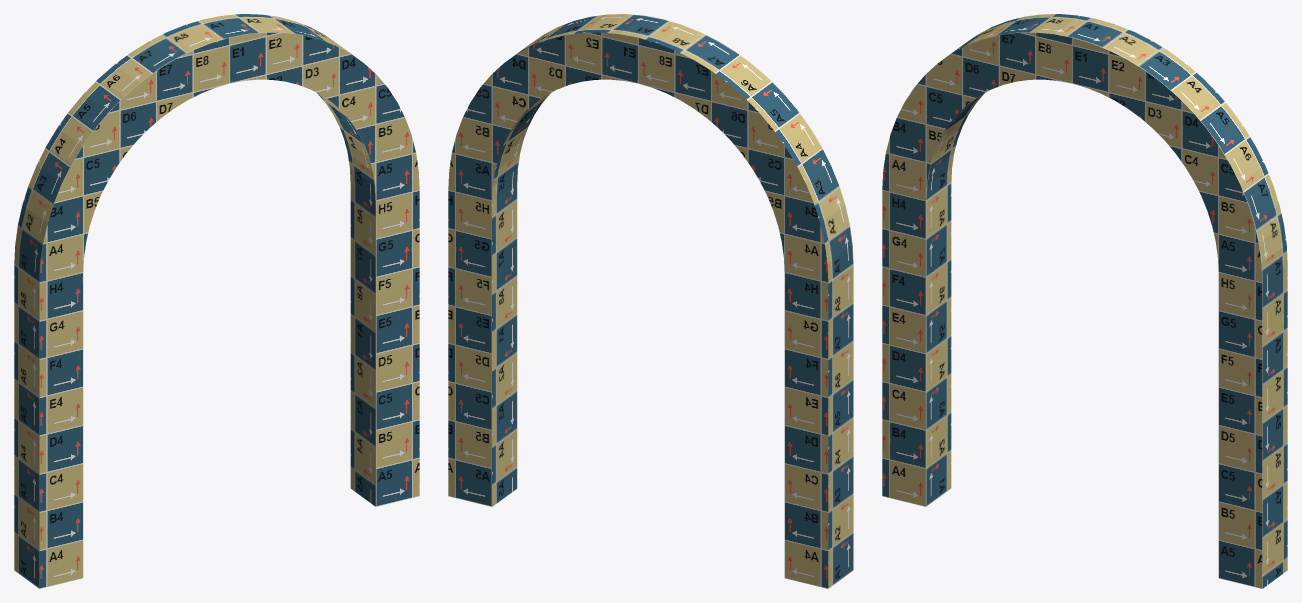
The model's file is ARCH_Round.fbx.
The picture shows the model from 3 angles, left to right: view 1: azimuth 30°, elevation 25°; view 2: azimuth 150°, elevation 25°; view 3: azimuth 330°, elevation 25°; orthographic projection.
Parts seen in each view (by area): view 1: ARCH_Round; view 2: ARCH_Round; view 3: ARCH_Round.
Boxes of the visible parts, <box> form: ARCH_Round: <box>14,14,419,588</box>; ARCH_Round: <box>448,14,853,588</box>; ARCH_Round: <box>882,14,1287,588</box>.
Bounding box in the file's own units: 260 × 330 × 30.
Materials: 1 (1 with a texture image).
